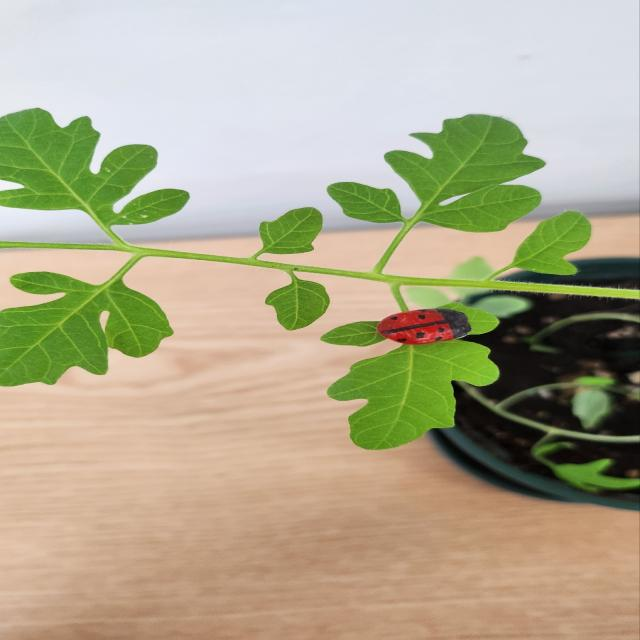bug: (363, 301, 479, 356)
